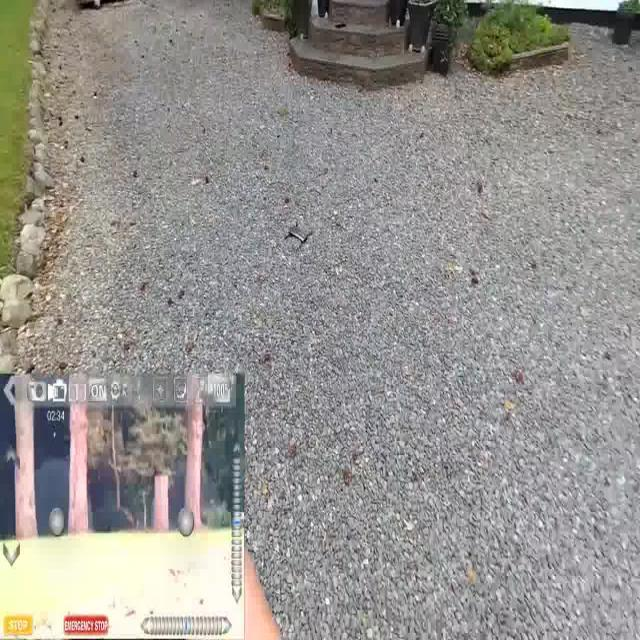drones: (281, 212, 321, 255)
